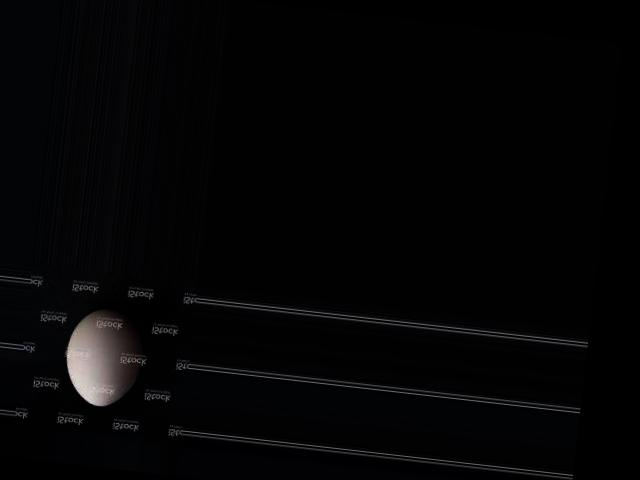egg: (61, 303, 148, 410)
